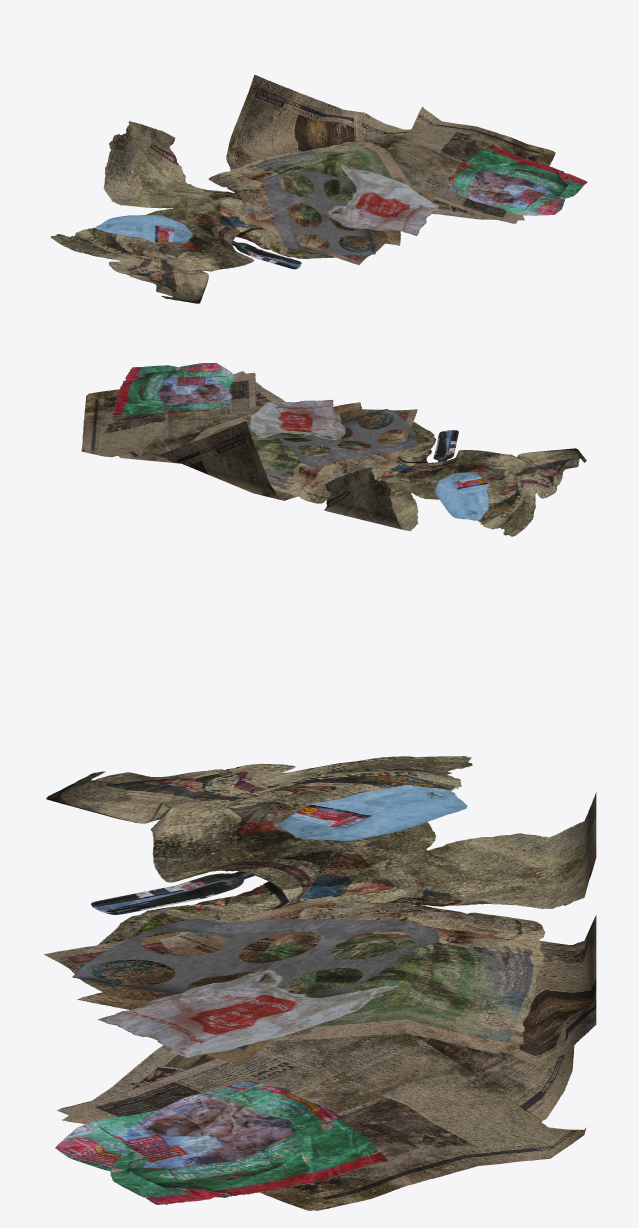
The model's file is 3D_Decal_05.fbx.
The picture shows the model from 3 angles, top to bottom: view 1: azimuth 30°, elevation 25°; view 2: azimuth 150°, elevation 25°; view 3: azimuth 270°, elevation 25°; orthographic projection. The views are drawn at different scales.
Visible parts, largest first — view 1: THREED_Decal; view 2: THREED_Decal; view 3: THREED_Decal.
Part boxes in pixels (<box>): THREED_Decal: <box>51,75,587,303</box>; THREED_Decal: <box>81,363,586,536</box>; THREED_Decal: <box>44,756,596,1210</box>.
Bounding box in the file's own units: 2.42 × 0.4172 × 1.23.
